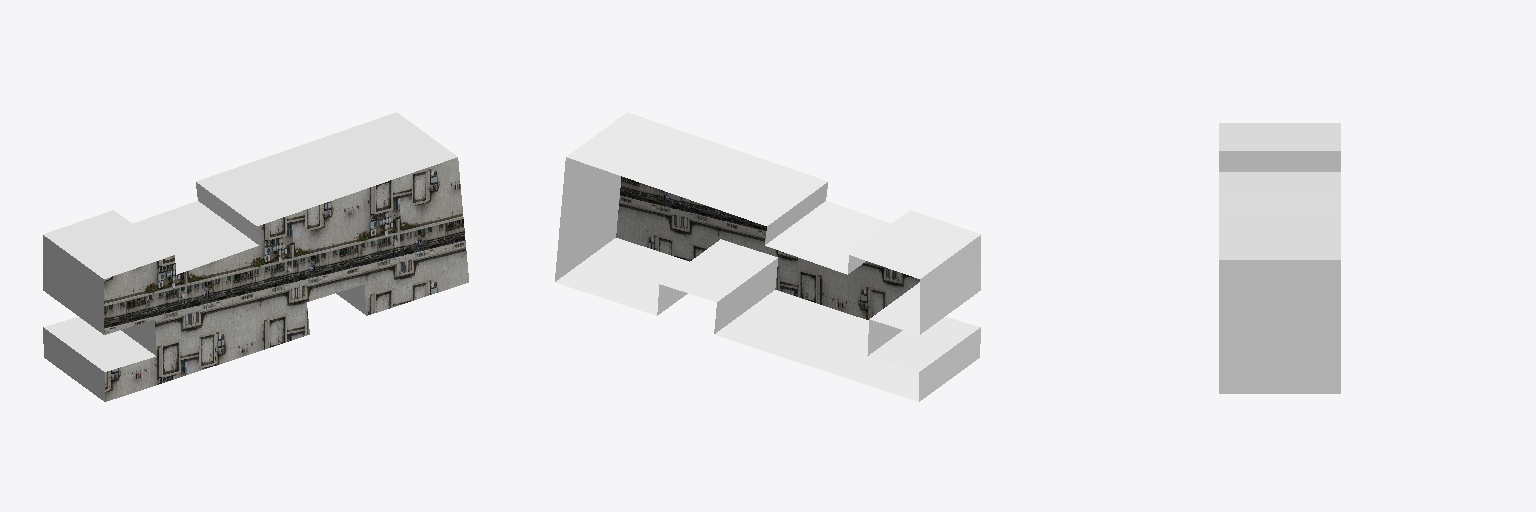
3 views of the same model, side by side, from view 1: azimuth 30°, elevation 25°; view 2: azimuth 150°, elevation 25°; view 3: azimuth 270°, elevation 25° (orthographic).
Visible parts, largest first — view 1: Building; view 2: Building; view 3: Building.
Boxes of the visible parts, box(x1,y1,x2,y2) form: Building: box(43, 112, 468, 401); Building: box(555, 112, 980, 401); Building: box(1219, 123, 1340, 393).
Bounding box in the file's own units: 20.62 × 8.58 × 6.
2 materials, 1 textured.